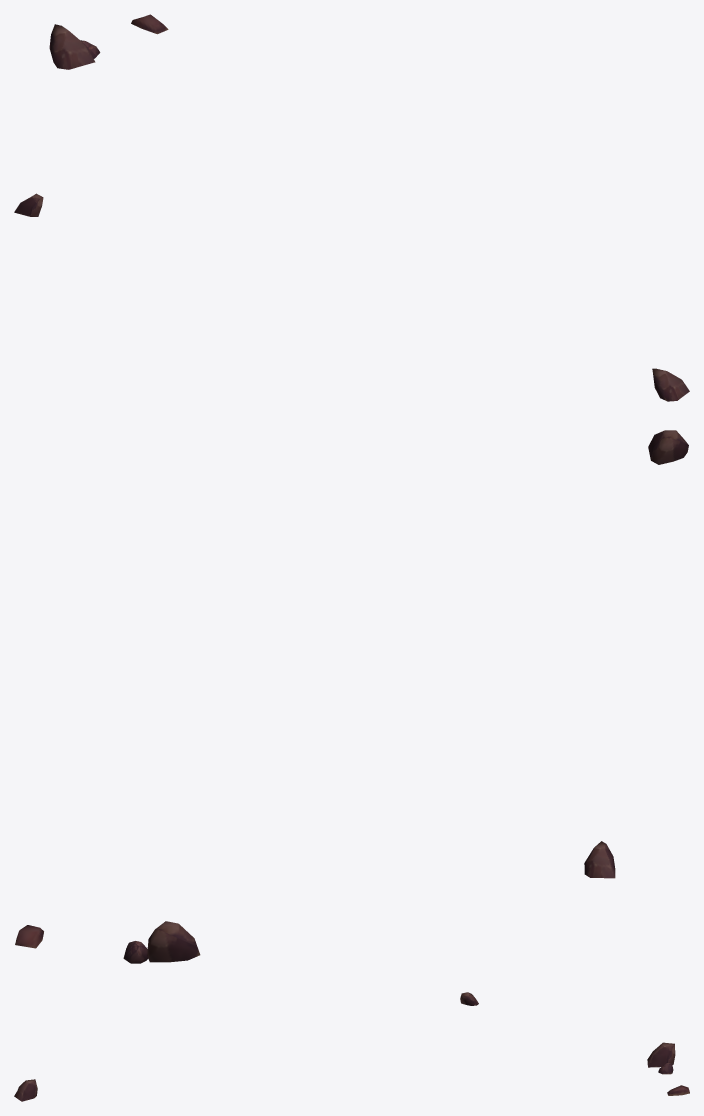
Rendered from area_10_shitou.FBX.
3 views of the same model, one above another, from view 1: azimuth 30°, elevation 25°; view 2: azimuth 150°, elevation 25°; view 3: azimuth 270°, elevation 25° (orthographic). The views are drawn at different scales.
Parts seen in each view (by area): view 1: area_10_shitou; view 2: area_10_shitou; view 3: area_10_shitou.
Part boxes in pixels (x1=…): area_10_shitou: x1=14, y1=14, x2=689, y2=401; area_10_shitou: x1=15, y1=430, x2=688, y2=963; area_10_shitou: x1=14, y1=992, x2=689, y2=1101.
Size of the model in its own units: 2175 by 217 by 6074.
